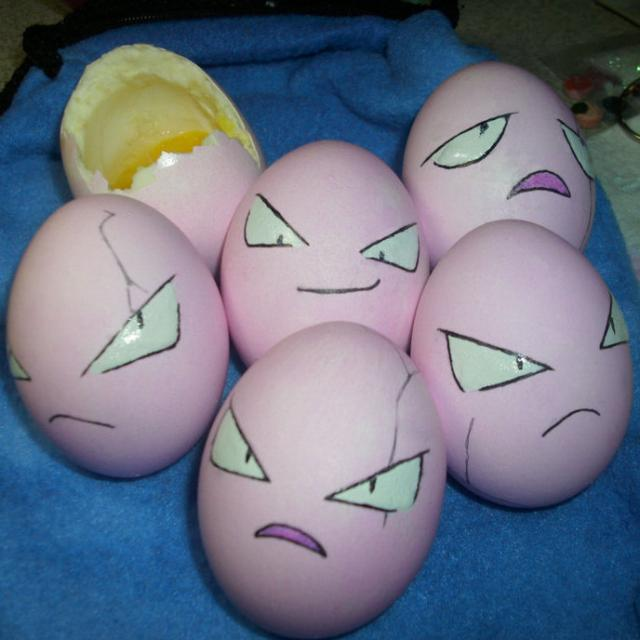Exeggcute: (12, 61, 637, 519)
